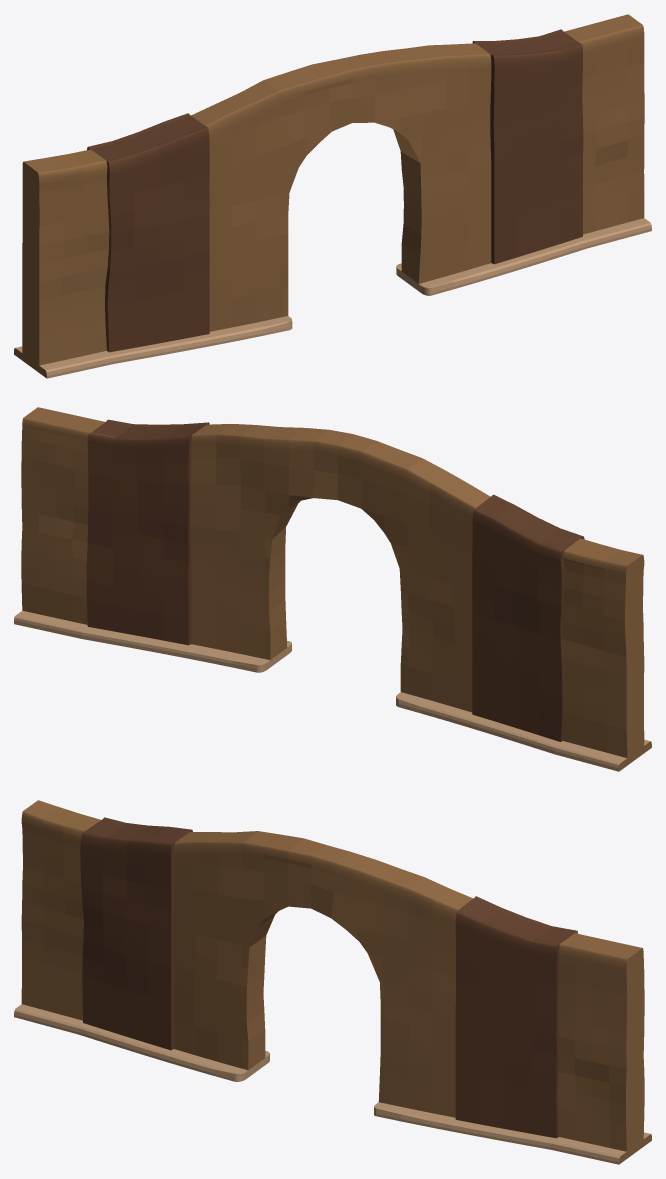
The model's file is Wall Mud-Entrance_01.fbx.
The picture shows the model from 3 angles, top to bottom: view 1: azimuth 30°, elevation 25°; view 2: azimuth 150°, elevation 25°; view 3: azimuth 330°, elevation 25°; orthographic projection.
Parts seen in each view (by area): view 1: Wall Mud-Entrance_01; view 2: Wall Mud-Entrance_01; view 3: Wall Mud-Entrance_01.
Part boxes in pixels (x1=…): Wall Mud-Entrance_01: x1=14, y1=14, x2=651, y2=378; Wall Mud-Entrance_01: x1=14, y1=407, x2=651, y2=771; Wall Mud-Entrance_01: x1=14, y1=800, x2=651, y2=1164.
Bounding box in the file's own units: 1098 × 412 × 138.
